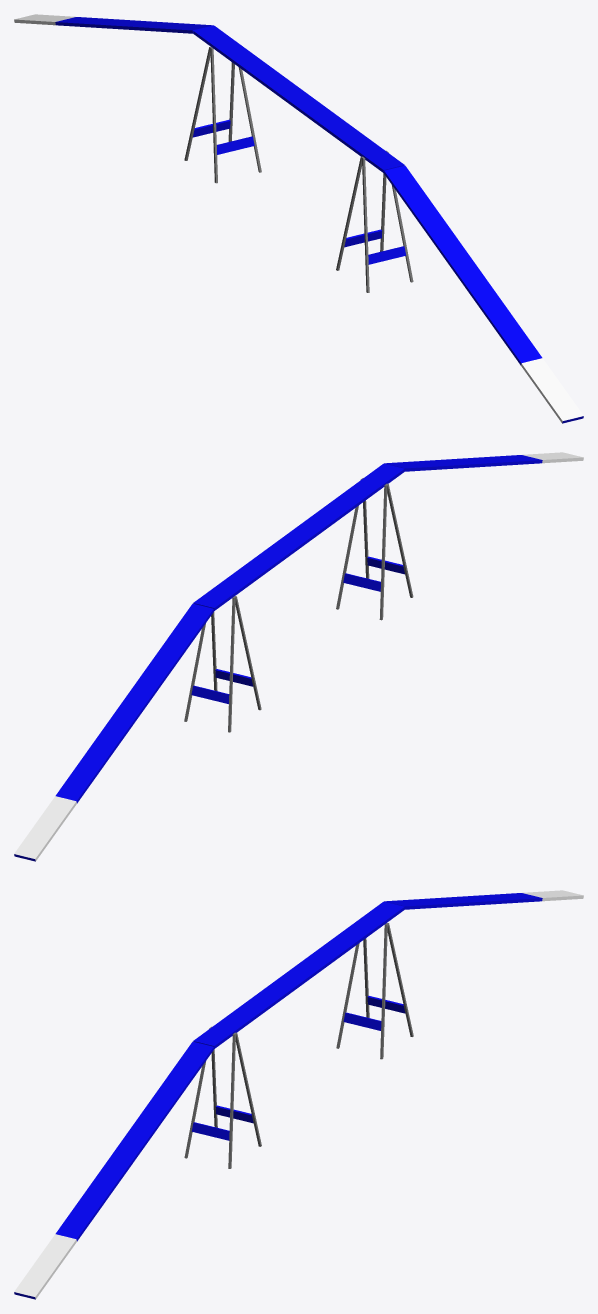
Rendered from Contact-2.glb.
3 views of the same model, one above another, from view 1: azimuth 30°, elevation 25°; view 2: azimuth 150°, elevation 25°; view 3: azimuth 330°, elevation 25° (orthographic).
Visible parts, largest first — view 1: ramp (×2), ramp#1, leg (×2); view 2: ramp (×2), ramp#1, leg (×2); view 3: ramp (×2), ramp#1, leg (×2).
Boxes of the visible parts, x1=… form: ramp (×2): x1=14, y1=14, x2=583, y2=423; ramp#1: x1=193, y1=25, x2=404, y2=172; leg (×2): x1=210, y1=47, x2=369, y2=292; ramp (×2): x1=14, y1=452, x2=583, y2=861; ramp#1: x1=193, y1=463, x2=404, y2=610; leg (×2): x1=228, y1=484, x2=387, y2=732; ramp (×2): x1=14, y1=890, x2=583, y2=1299; ramp#1: x1=193, y1=901, x2=404, y2=1048; leg (×2): x1=228, y1=923, x2=387, y2=1168.
Size of the model in its own units: 0.5514 by 1.42 by 11.38.
